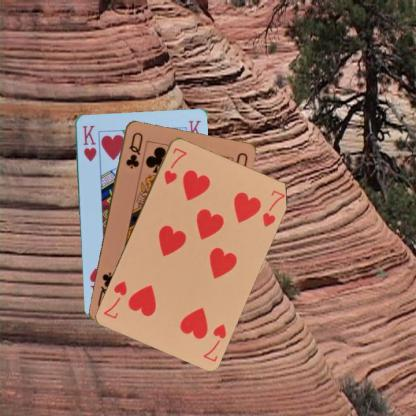7h: (200, 321, 228, 363), (162, 144, 188, 186)
Kh: (80, 122, 98, 162)
Qc: (123, 129, 144, 170)
